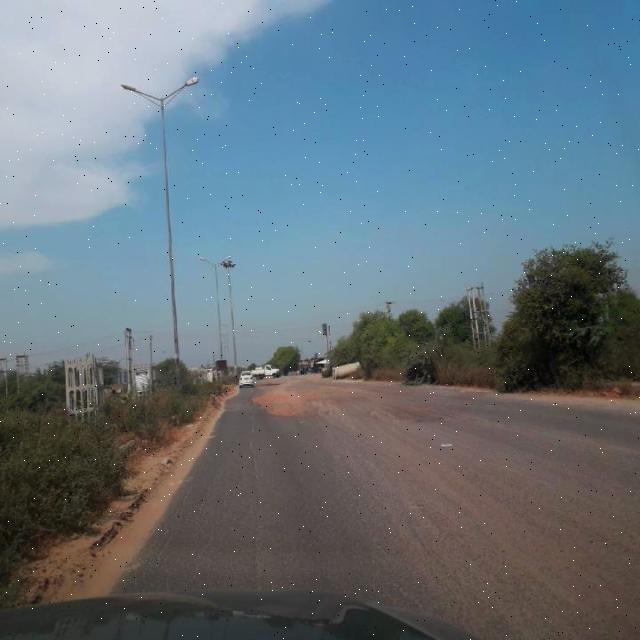D00: (243, 414, 270, 577)
D40: (237, 384, 354, 418), (367, 398, 453, 430)
